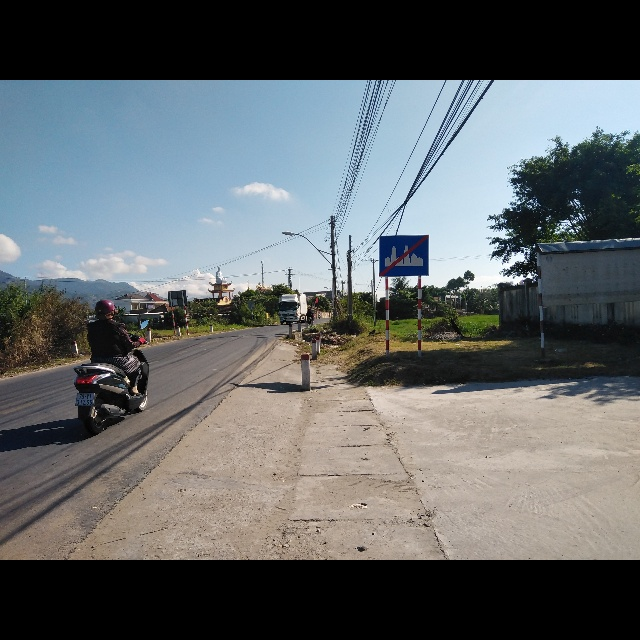Hết khu đông dân cư: (377, 234, 430, 277)
